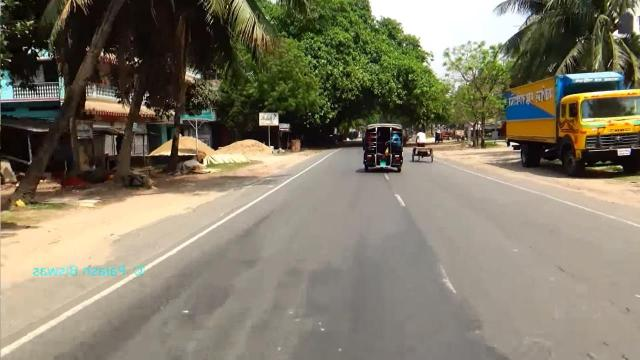truck: (498, 66, 640, 177)
